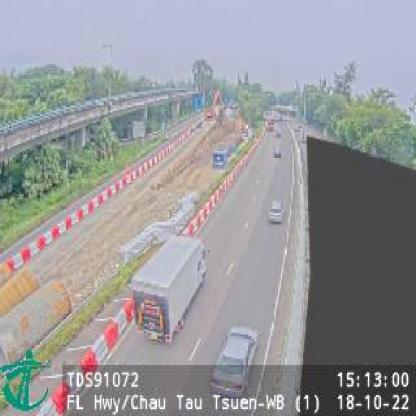Car: (208, 326, 260, 396), (269, 200, 285, 224), (272, 146, 282, 157)
Truck: (134, 238, 208, 346)
